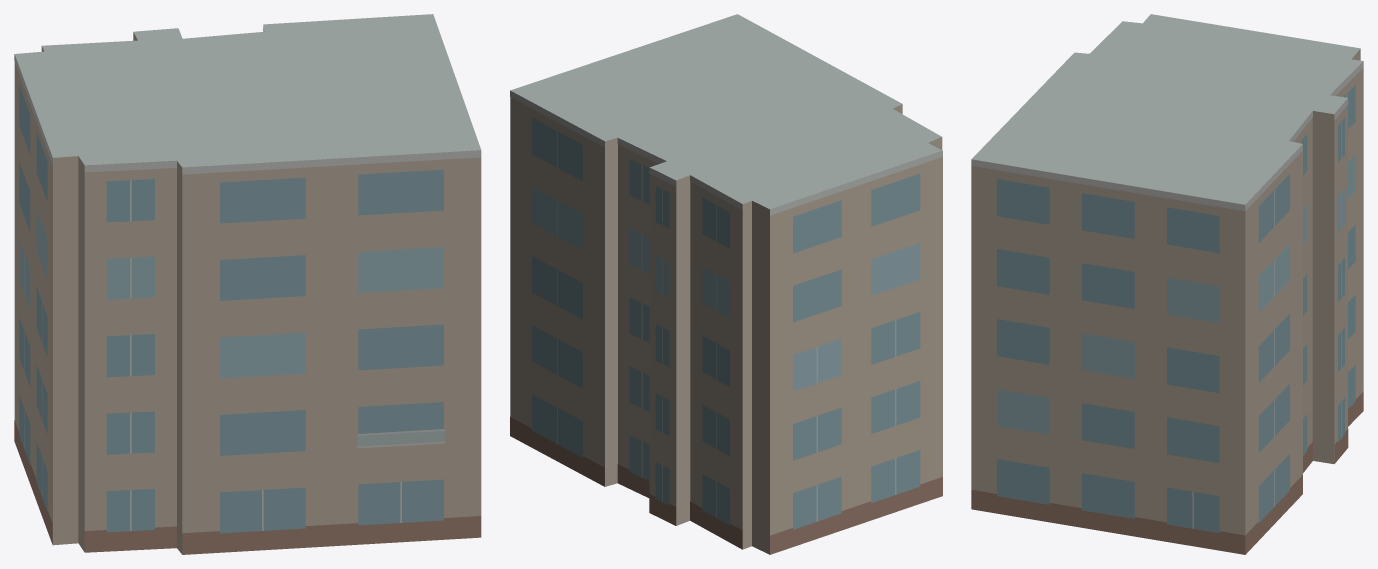
The model's file is survey-upis-32942795.glb.
3 views of the same model, side by side, from view 1: azimuth 30°, elevation 25°; view 2: azimuth 150°, elevation 25°; view 3: azimuth 270°, elevation 25° (orthographic). The views are drawn at different scales.
Visible parts, largest first — view 1: survey-upis-32942795.tmp; view 2: survey-upis-32942795.tmp; view 3: survey-upis-32942795.tmp.
Part boxes in pixels (left/top/right/bottom): survey-upis-32942795.tmp: left=14, top=14, right=481, bottom=554; survey-upis-32942795.tmp: left=510, top=14, right=942, bottom=554; survey-upis-32942795.tmp: left=971, top=14, right=1363, bottom=554.
Bounding box in the file's own units: 15.44 × 13.2 × 13.41.
